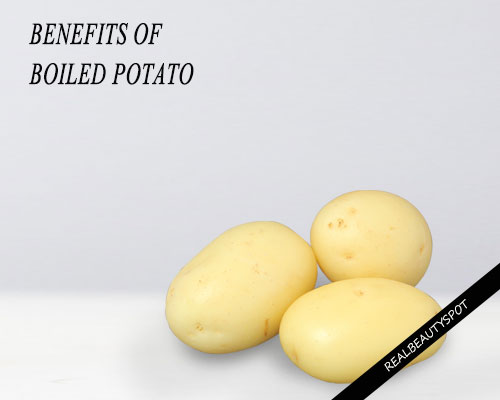boiled potatoes: (168, 222, 316, 351), (295, 284, 436, 375), (315, 191, 430, 282)
